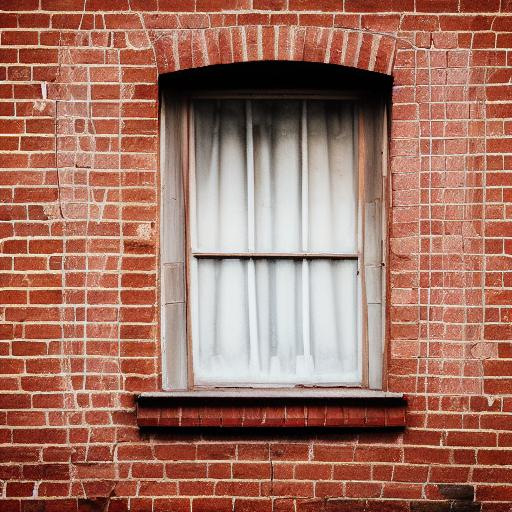Window: (128, 26, 412, 435)
